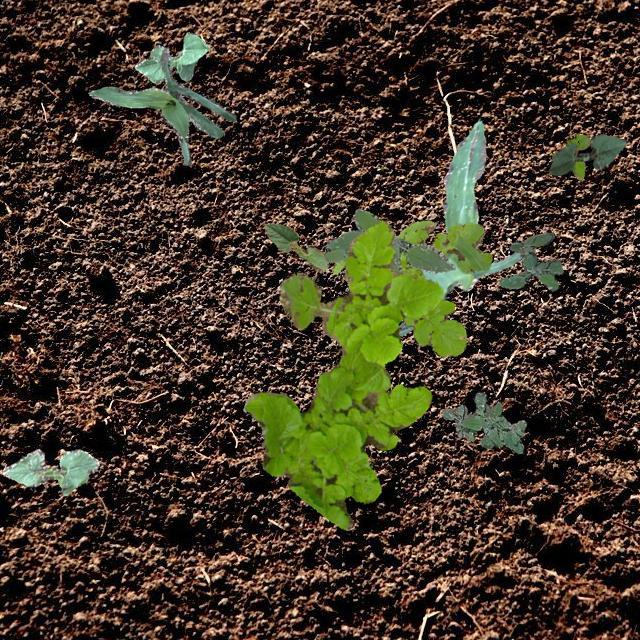crop: (398, 120, 522, 334), (88, 46, 235, 165), (0, 448, 99, 494), (134, 32, 208, 82), (548, 132, 624, 174), (264, 222, 328, 270)
weed: (243, 220, 442, 528), (330, 220, 490, 356), (322, 208, 453, 272), (442, 392, 526, 452), (498, 232, 562, 290), (550, 134, 590, 178)
